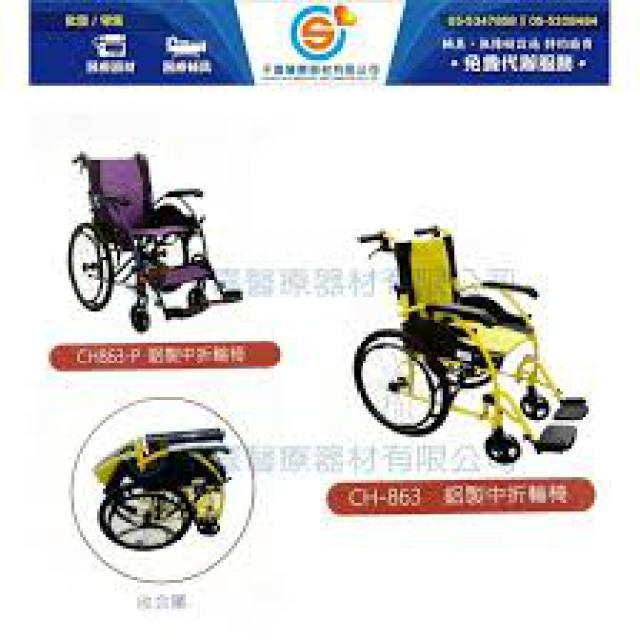wheelchair: (346, 217, 598, 466), (42, 140, 252, 337)
